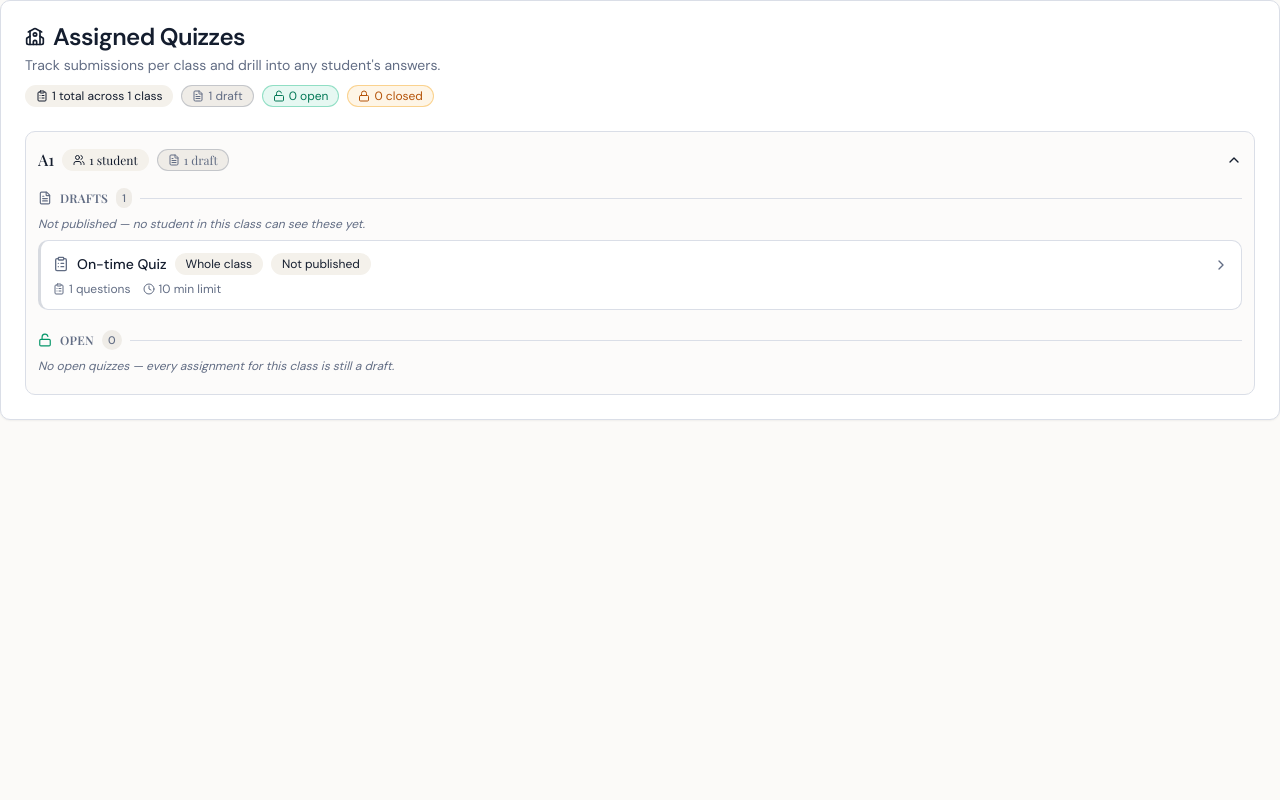
it: AssignedQuizzesBoard › does not flag a completed attempt that finished within the time limit
Expected: the text "A1" is shown, [38,148,54,172]
Expected: the text "On-time Quiz" is shown, [77,254,166,274]
Click the button "On-time Quiz" at (122, 264), box [41,241,1241,309]
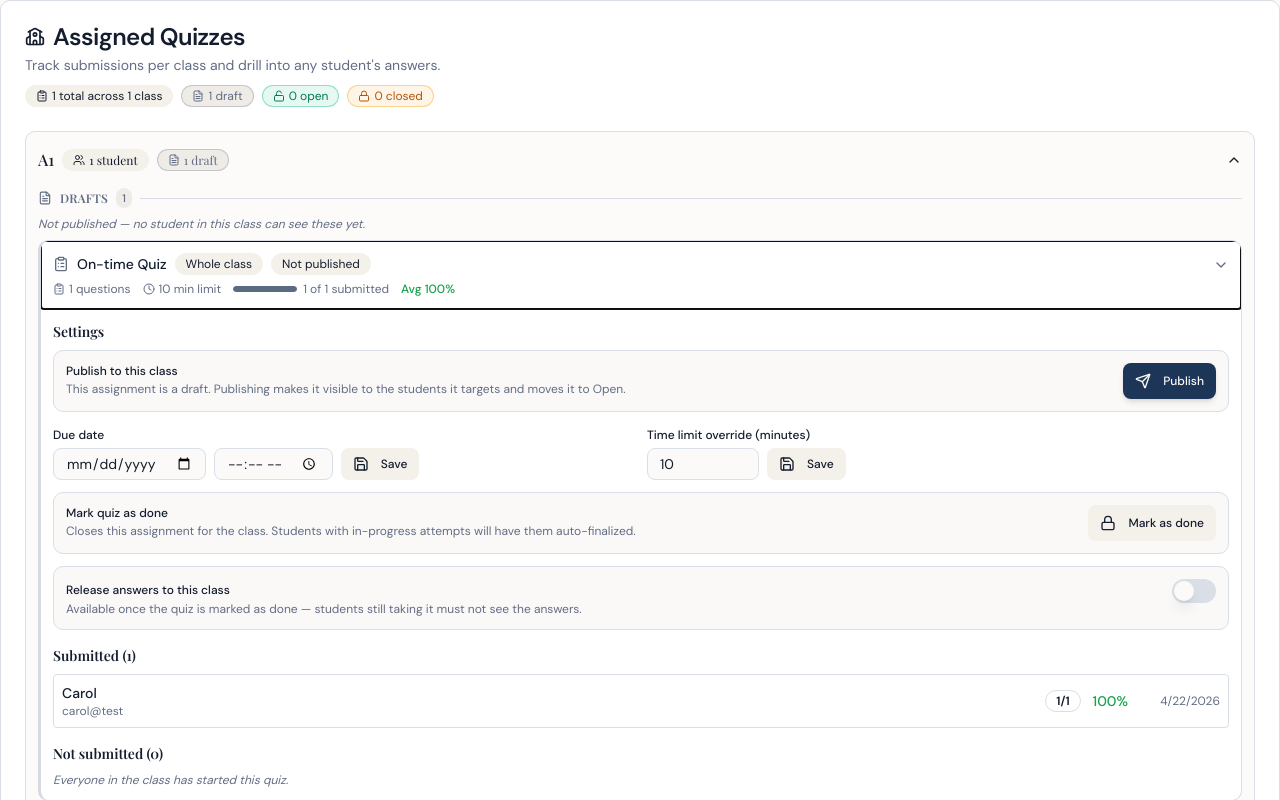
Expected: the text "Carol" is shown, [62,683,97,703]
